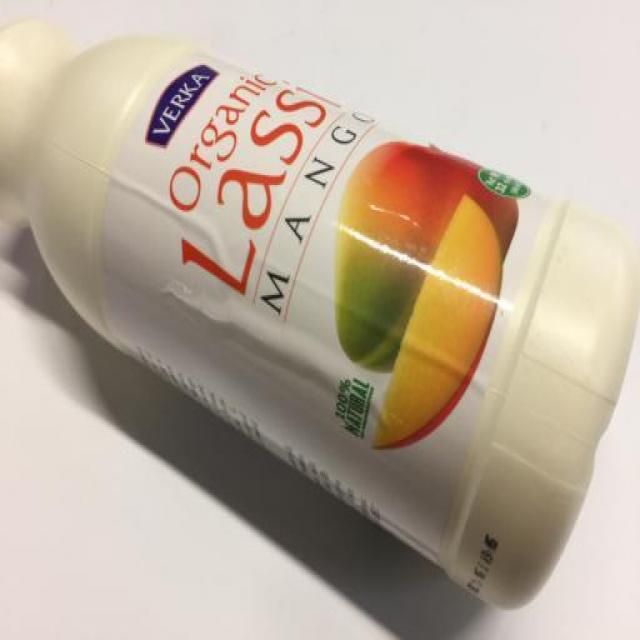plastic_bottle: (3, 1, 640, 626)
